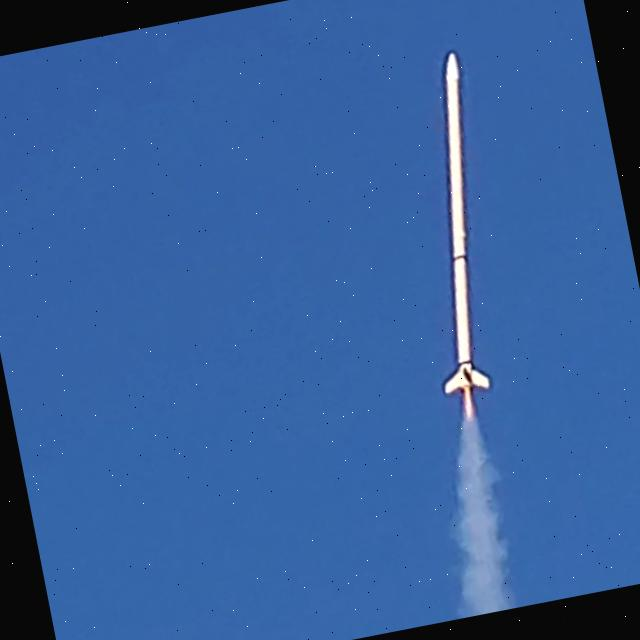rocket: (441, 53, 491, 420)
